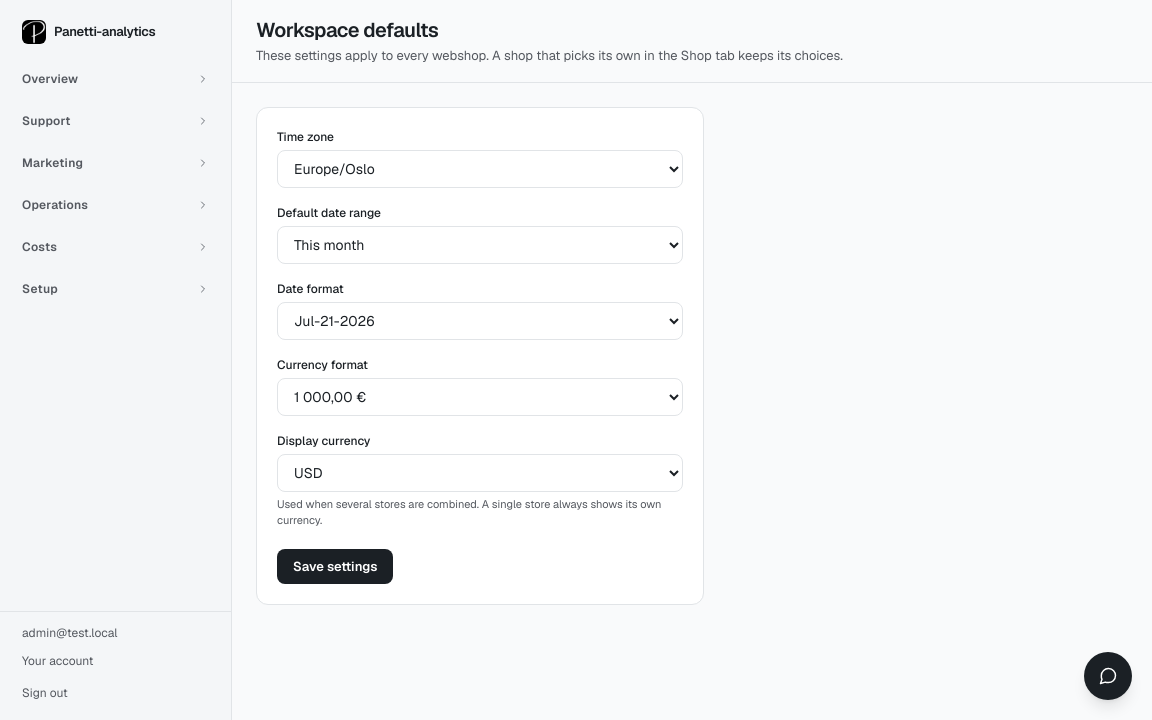
Test case: GeneralClient save › does not reload if the save failed
The image size is (1152, 720).
Click the button "Save settings": (335, 566) [277,548,394,584]
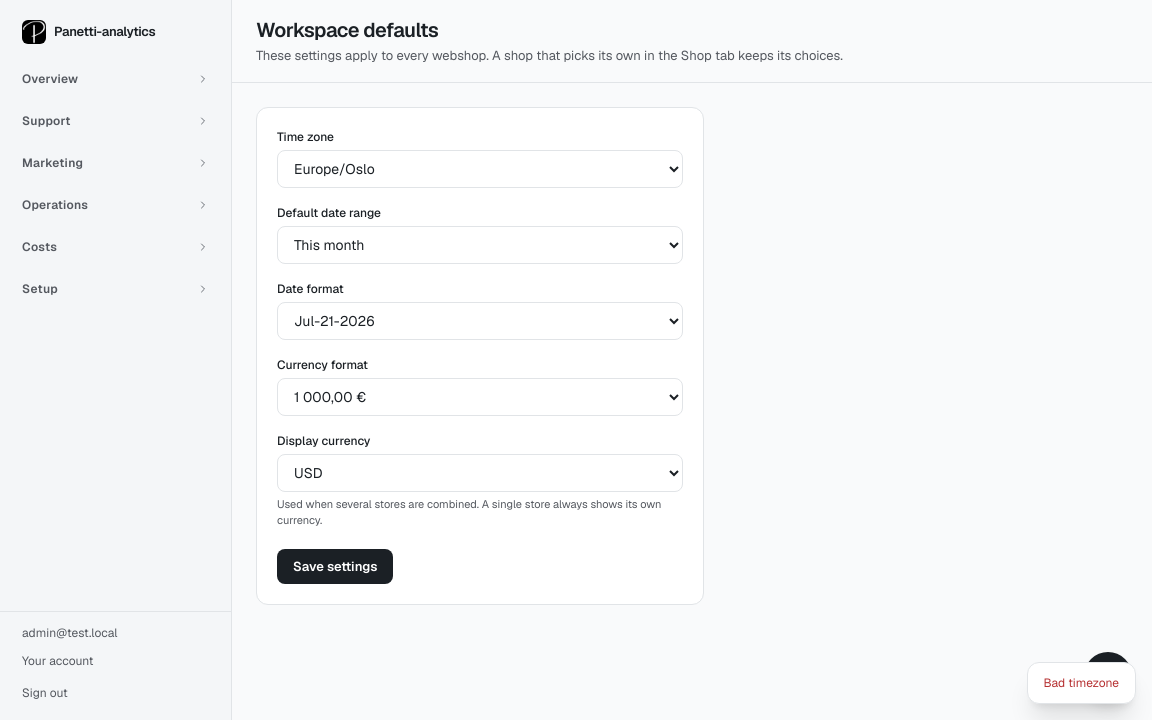
Expected: the button "Bad timezone" is shown, [1026,662,1136,704]
